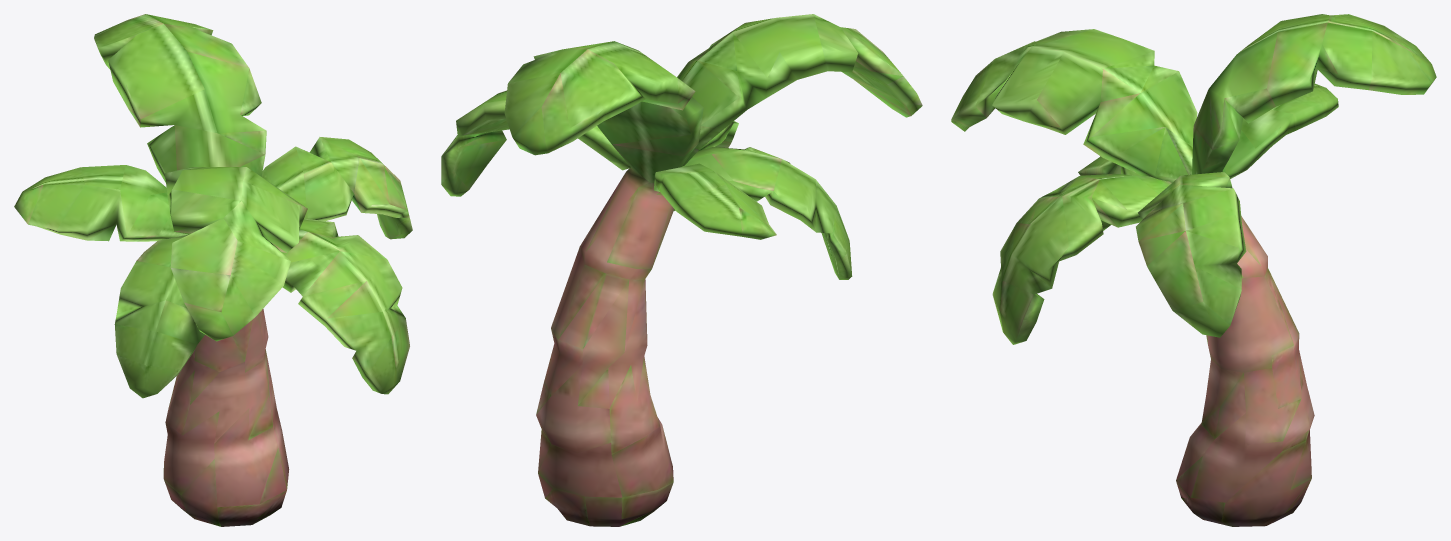
File: palm.glb
3 renders of one model, left to right at view 1: azimuth 30°, elevation 25°; view 2: azimuth 150°, elevation 25°; view 3: azimuth 270°, elevation 25°, orthographic. The views are drawn at different scales.
Bounding box in the file's own units: 0.7451 × 0.9531 × 0.8853.
1 material, 1 textured.
